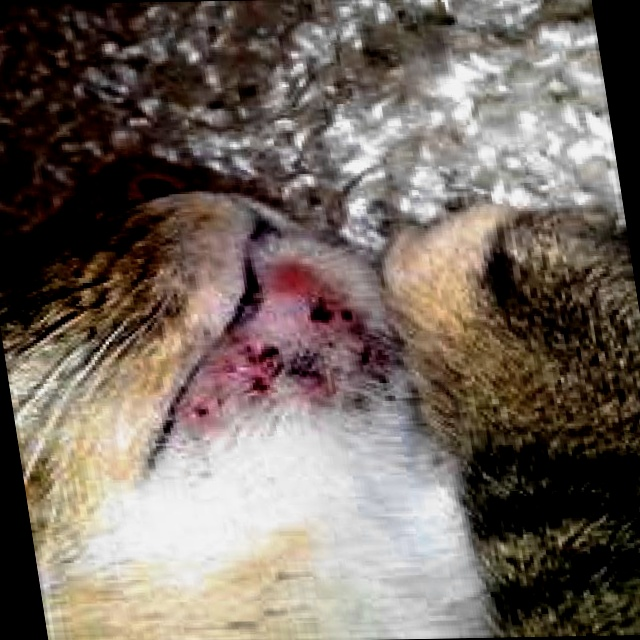acne: (163, 294, 408, 432)
